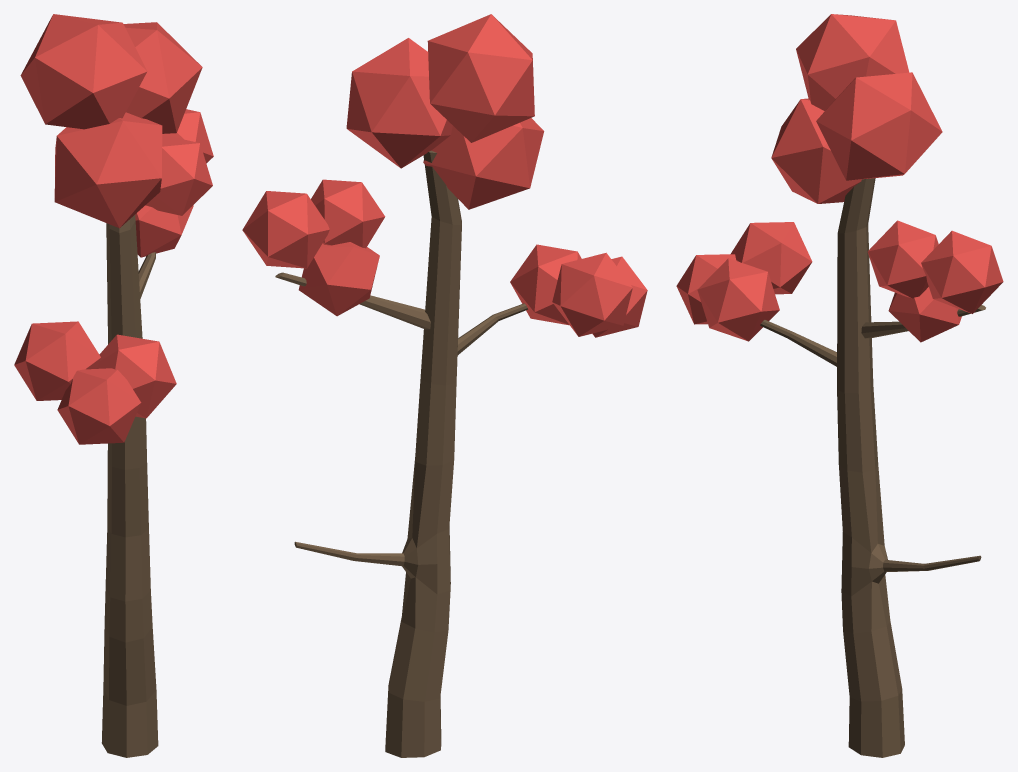
Rendered from Brown Tree.fbx.
The picture shows the model from 3 angles, left to right: view 1: azimuth 30°, elevation 25°; view 2: azimuth 150°, elevation 25°; view 3: azimuth 270°, elevation 25°; orthographic projection. The views are drawn at different scales.
Parts seen in each view (by area): view 1: Icosphere.010; view 2: Icosphere.010; view 3: Icosphere.010.
Part boxes in pixels (x1=…): Icosphere.010: x1=14, y1=14, x2=213, y2=757; Icosphere.010: x1=242, y1=14, x2=647, y2=757; Icosphere.010: x1=676, y1=14, x2=1003, y2=757.
Size of the model in its own units: 191 by 483 by 203.
